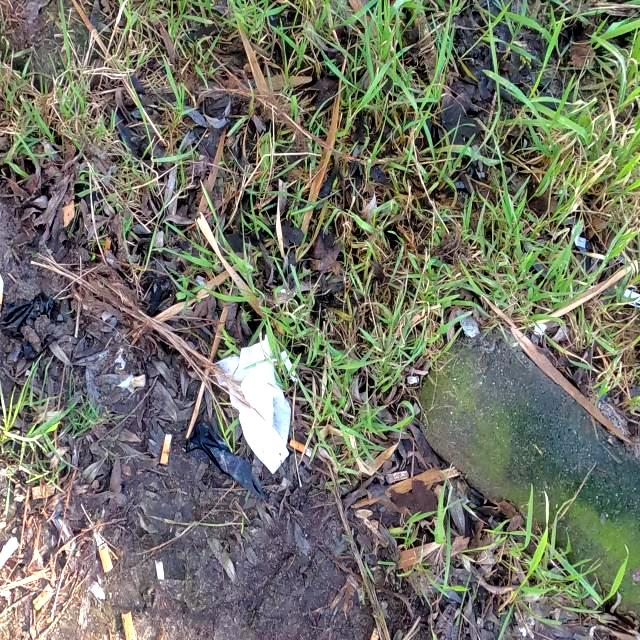Paper: (211, 334, 291, 476)
